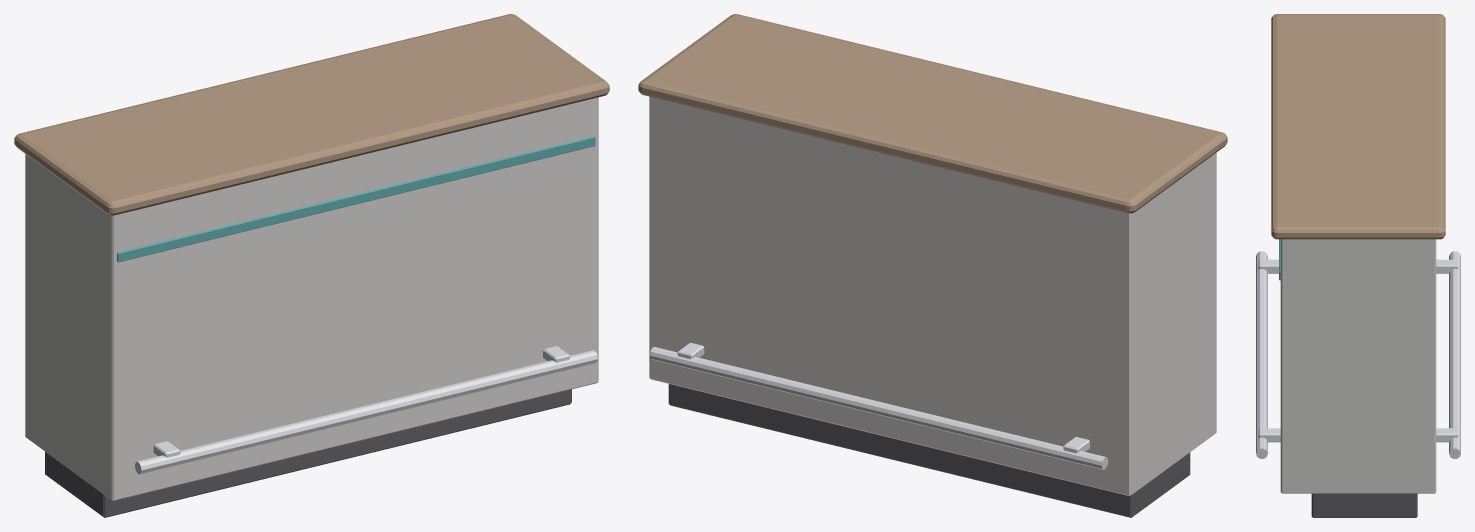
Rendered from barcounter.glb.
3 renders of one model, left to right at view 1: azimuth 30°, elevation 25°; view 2: azimuth 150°, elevation 25°; view 3: azimuth 270°, elevation 25°, orthographic. The views are drawn at different scales.
Parts seen in each view (by area): view 1: bar-height-counter; view 2: bar-height-counter; view 3: bar-height-counter.
Part boxes in pixels (x1,y1,x2,y2): bar-height-counter: (14,14,609,517); bar-height-counter: (638,14,1227,517); bar-height-counter: (1256,14,1460,517).
Size of the model in its own units: 1.65 by 1.05 by 0.658.
